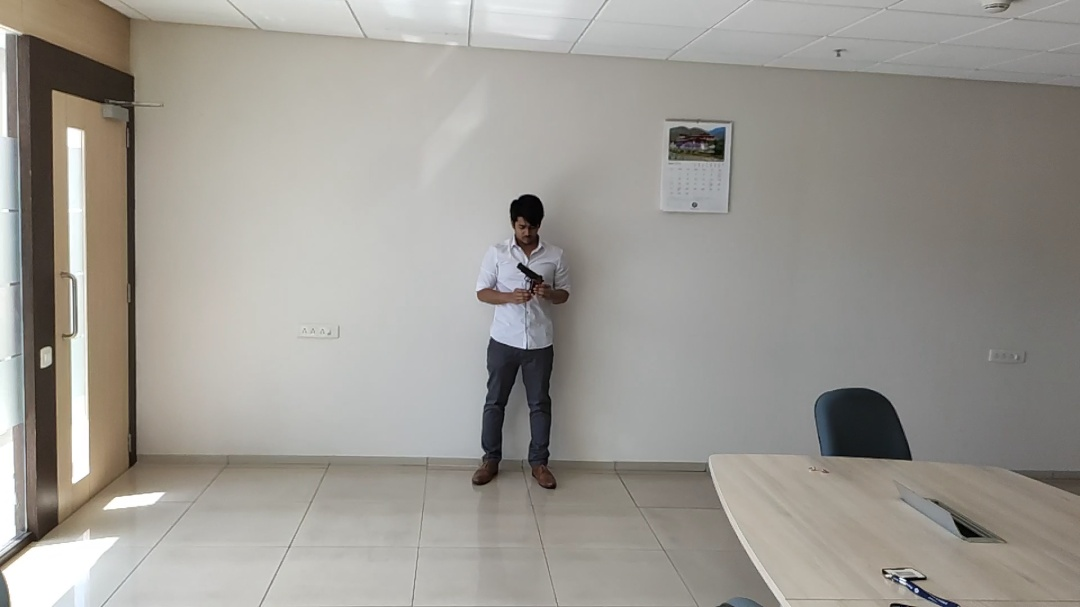gun: (517, 262, 544, 283)
